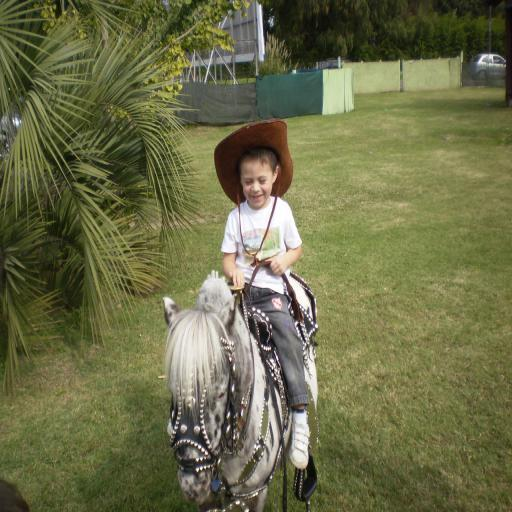horse: (164, 295, 318, 512)
